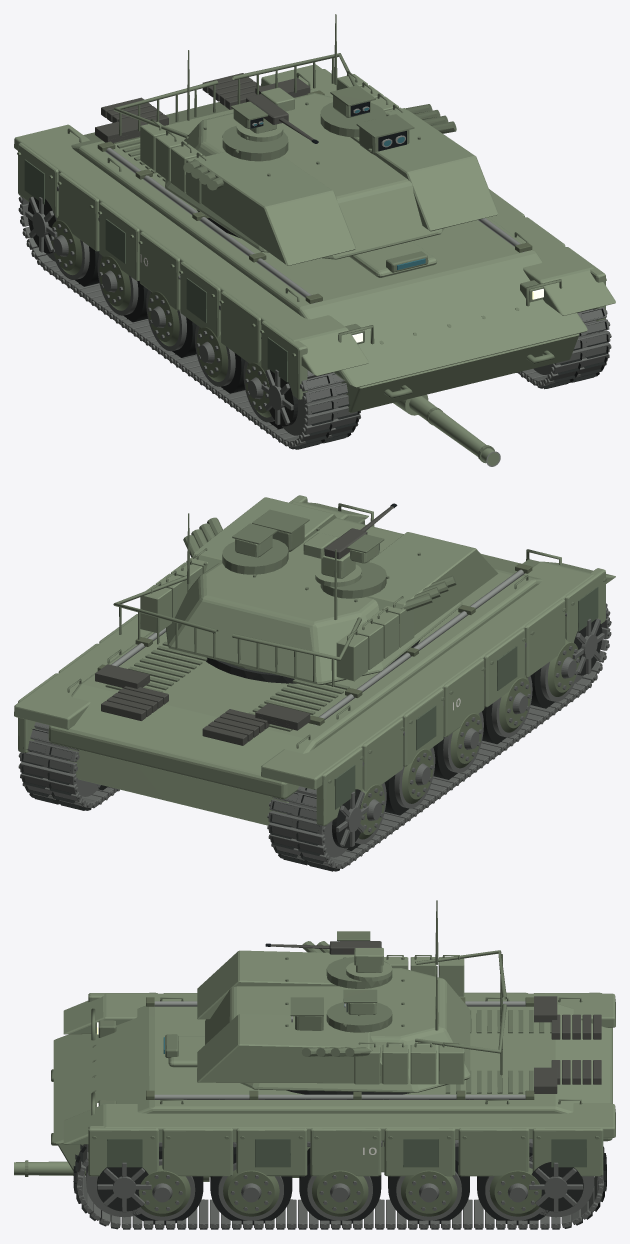
Rendered from japan.glb.
3 renders of one model, top to bottom at view 1: azimuth 30°, elevation 25°; view 2: azimuth 150°, elevation 25°; view 3: azimuth 270°, elevation 25°, orthographic. The views are drawn at different scales.
Parts seen in each view (by area): view 1: body.003, turret.003, tracks.003, body_field_fittings.002, cannon.003; view 2: body.003, turret.003, tracks.003, body_field_fittings.002; view 3: body.003, turret.003, tracks.003, body_field_fittings.002, cannon.003.
Boxes of the visible parts, x1,y1,x2,y2 form: body.003: (14, 64, 615, 412); turret.003: (113, 14, 498, 265); tracks.003: (18, 186, 611, 449); body_field_fittings.002: (97, 73, 532, 303); cannon.003: (393, 394, 500, 466); body.003: (14, 495, 615, 825); turret.003: (113, 497, 498, 686); tracks.003: (18, 603, 611, 871); body_field_fittings.002: (97, 563, 532, 745); body.003: (51, 992, 615, 1176); turret.003: (197, 900, 506, 1094); tracks.003: (73, 1139, 606, 1229); body_field_fittings.002: (146, 997, 601, 1099); cannon.003: (14, 1160, 299, 1181).
Bounding box in the file's own units: 3.91 × 3.22 × 6.98.
